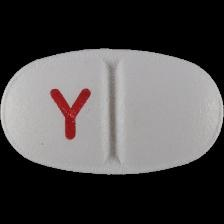50474-920: (0, 0, 224, 224)
